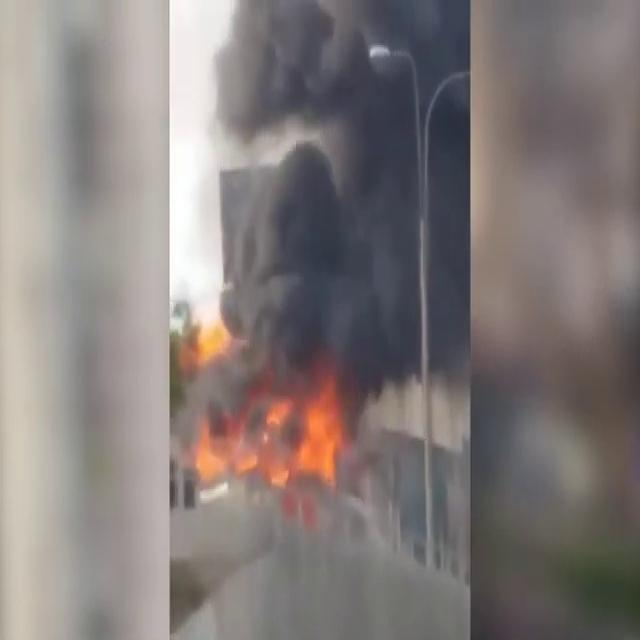Fire: (186, 380, 344, 488), (192, 326, 228, 364)
Smoke: (204, 6, 464, 372)
